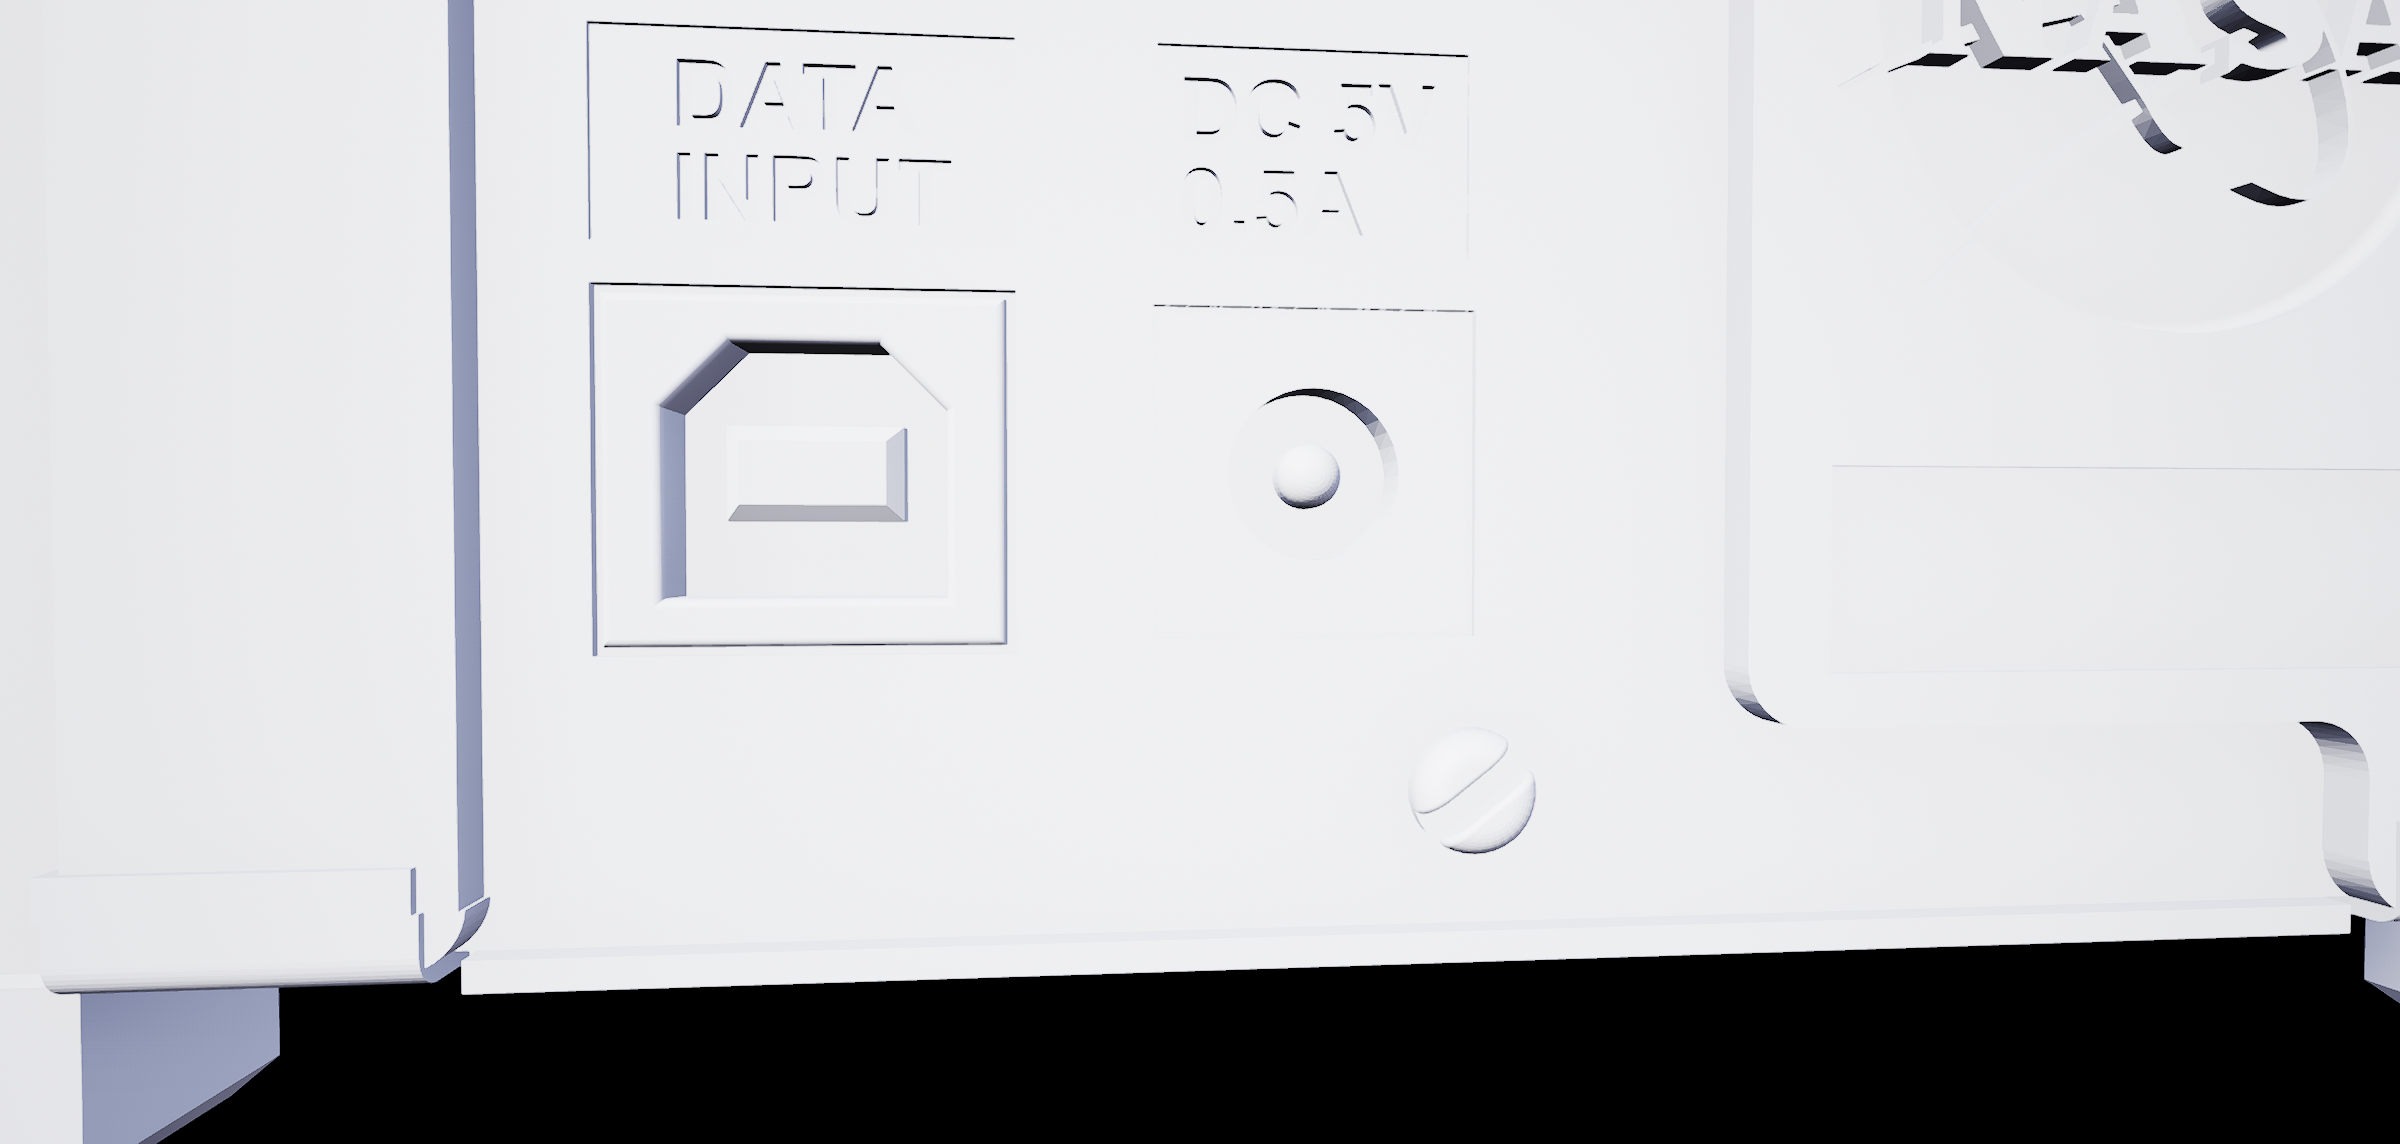dc: (1212, 368, 1420, 579)
usb: (641, 325, 963, 617)
